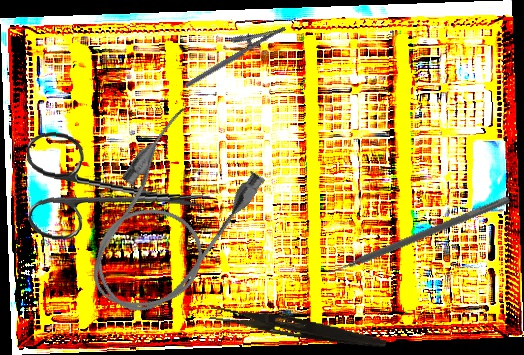Cannula: (61, 101, 273, 335)
Dressing Forceps: (208, 305, 388, 351)
Iris Scissors: (19, 130, 215, 253)
Needle Holder: (176, 12, 287, 89)
Spatula Surgical: (317, 187, 512, 282)
